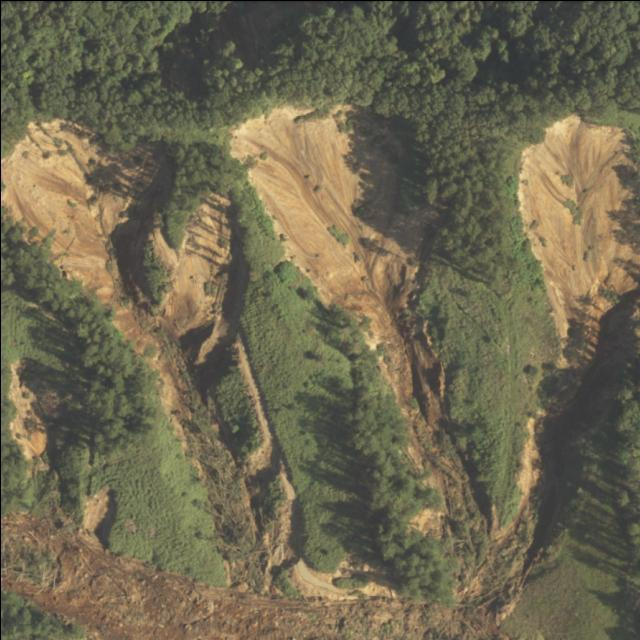landslide: (0, 513, 505, 640), (230, 105, 417, 406), (0, 119, 230, 354), (458, 325, 595, 618), (517, 114, 640, 338), (154, 341, 218, 500), (6, 360, 45, 460)
